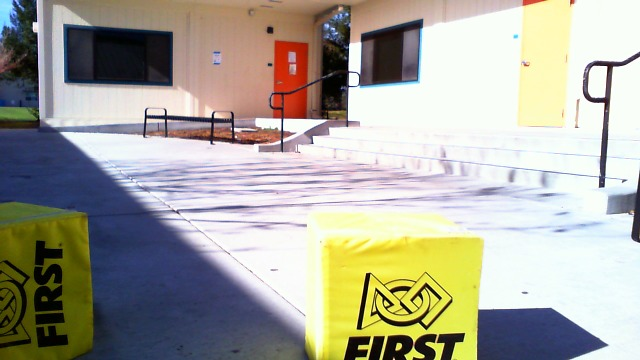cube: (302, 212, 486, 360), (1, 199, 95, 359)
